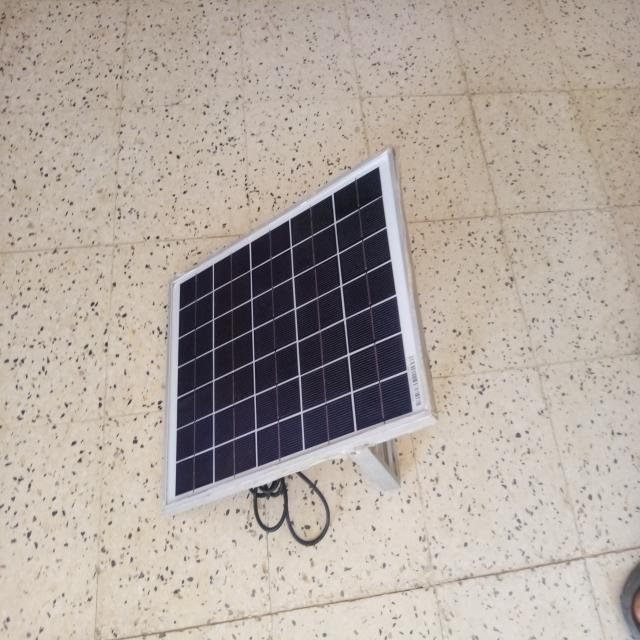no faulty: (168, 150, 432, 505)
